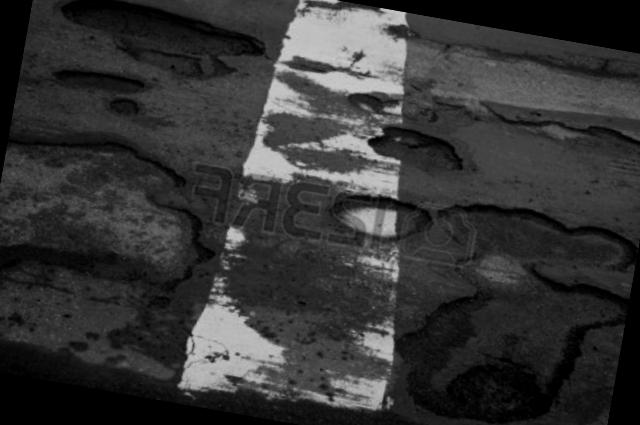Pothole: (0, 124, 250, 408), (361, 181, 640, 425), (38, 0, 286, 95), (317, 174, 448, 272), (354, 97, 480, 189), (48, 52, 158, 110)
